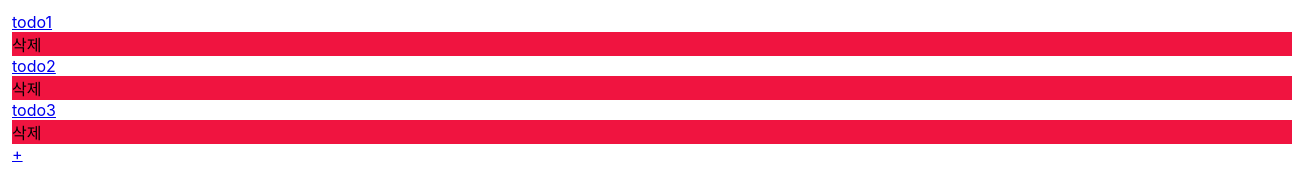
<List /> › deletes todo item
The width and height of the screenshot is (1292, 179).
Expected: the element showing "삭제" below "todo1" is shown, [12,35,42,55]
Click the element showing "삭제" below "todo1" at (652, 44), box [12,32,1291,56]
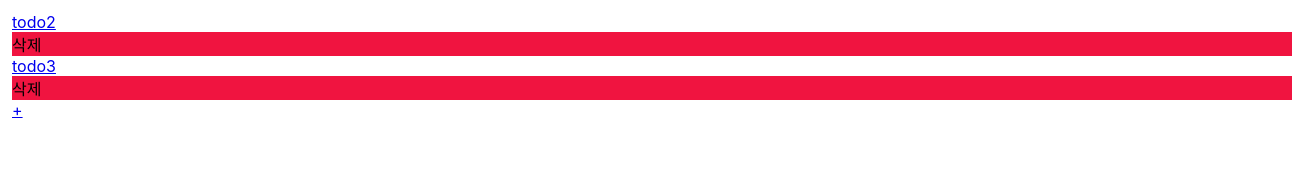
Expected: the link "todo1" is gone
